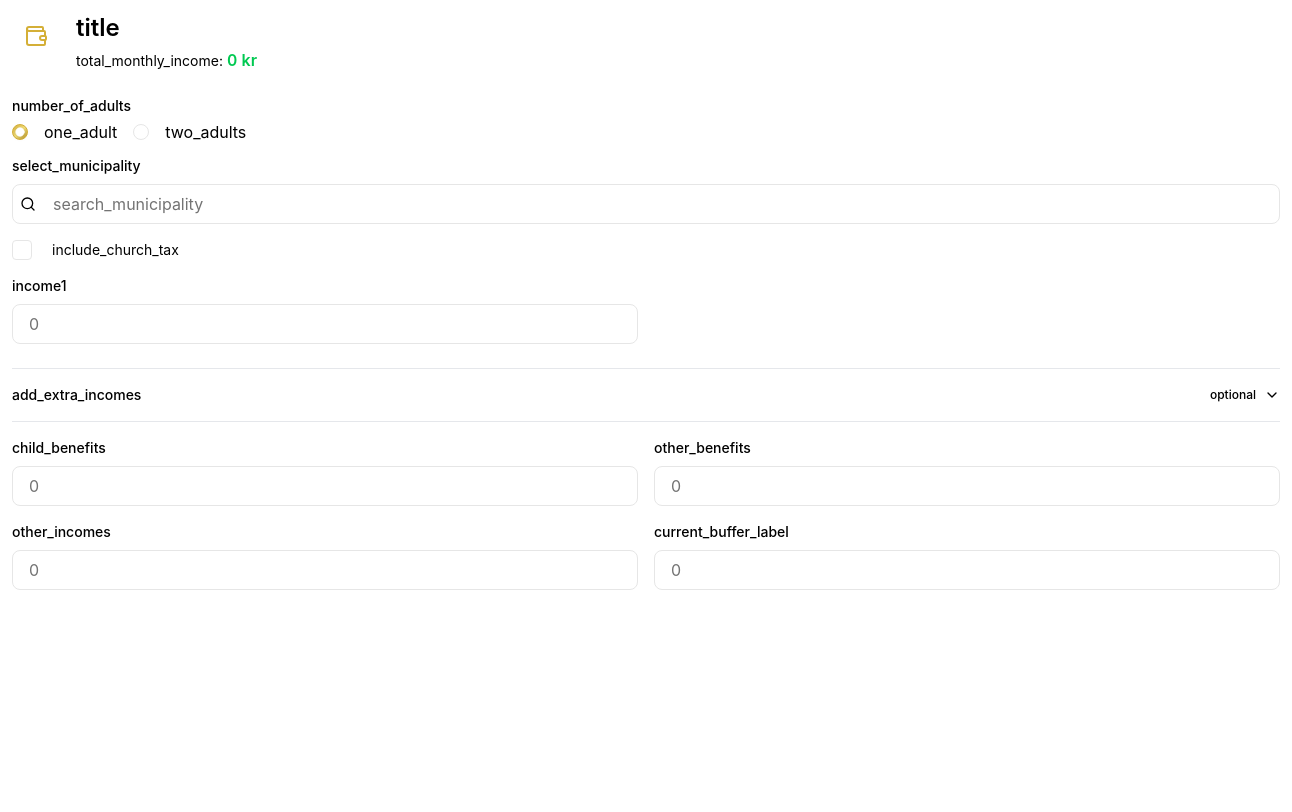
Test case: Income › renders correct fields for 1 adult
Expected: the element named "number_of_adults" is shown, [12, 122, 246, 142]
Expected: the radio button named "one_adult" next to "one_adult" is shown, [12, 124, 28, 140]
Expand extra incomes
Click the text "add_extra_incomes": {"x": 77, "y": 395} [12, 385, 141, 405]
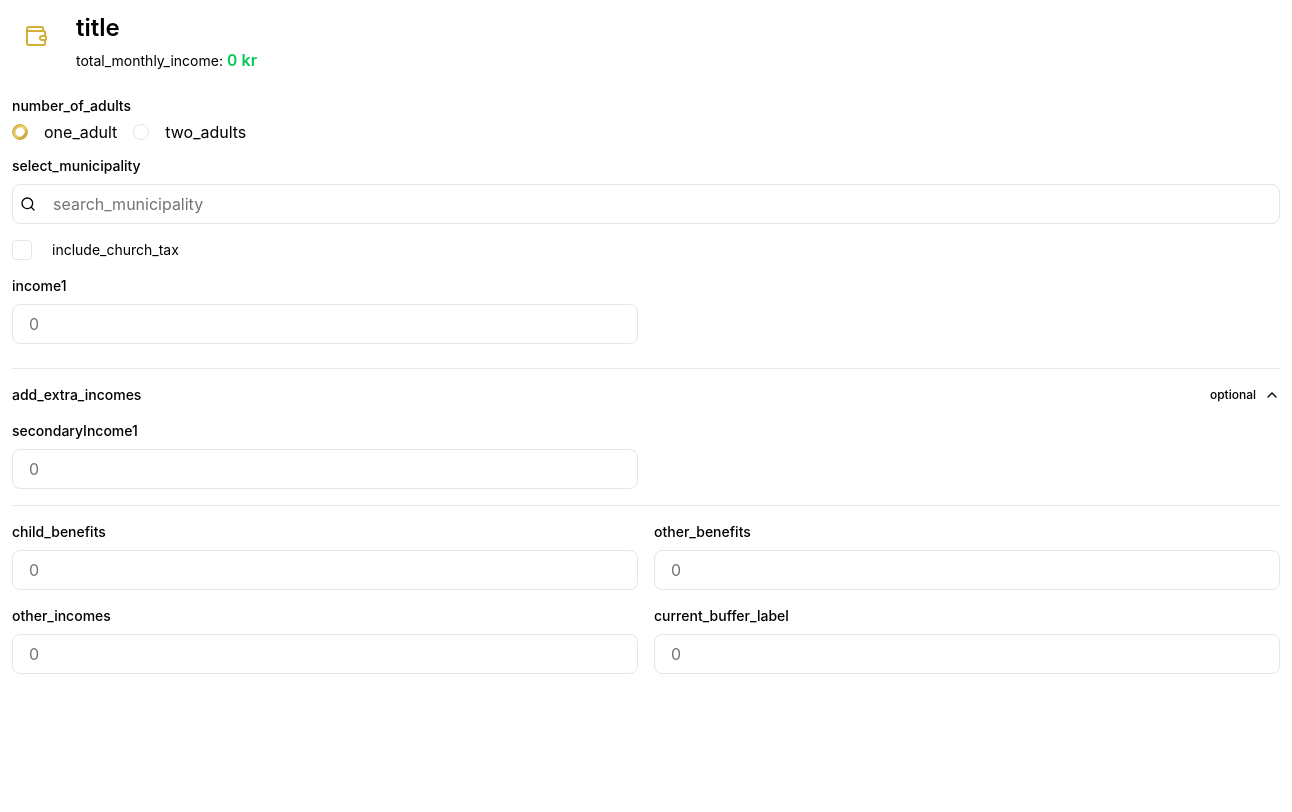
Expected: the field named "child_benefits_aria" is shown, [12, 550, 638, 590]
Expected: the field named "secondaryIncome1_aria" is shown, [12, 449, 638, 489]
